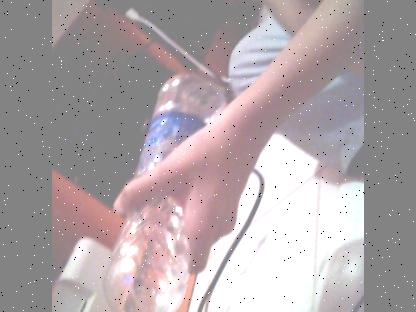Plastic Bottle: (99, 50, 229, 312)
